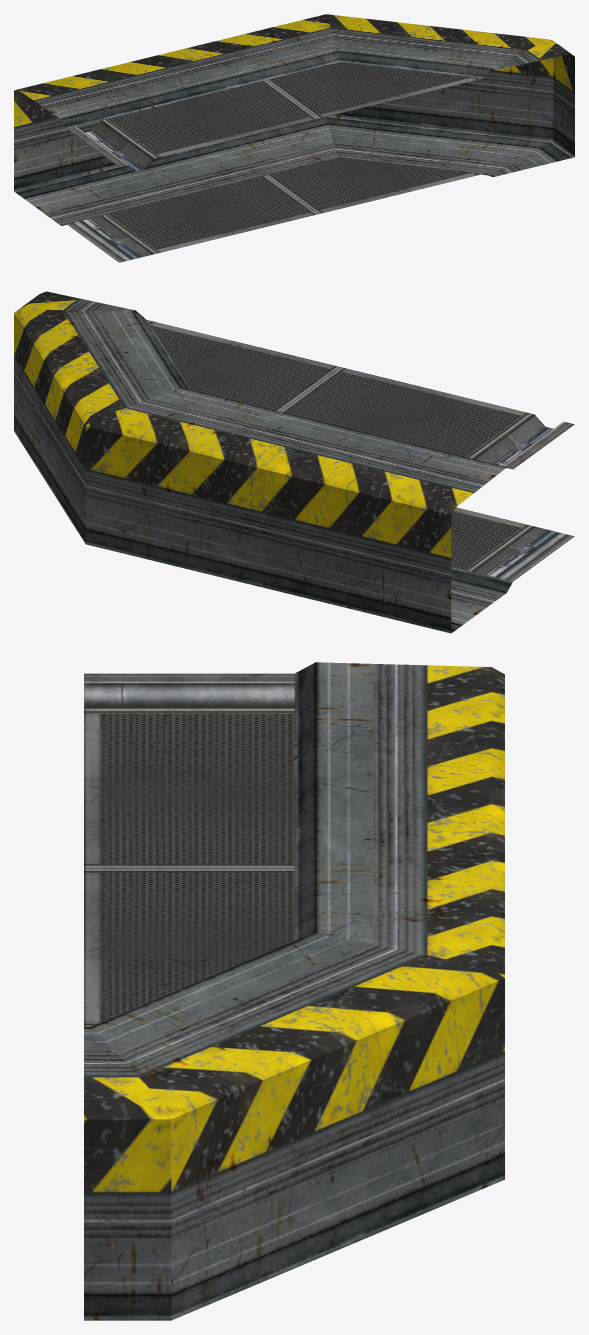
File: FLO_PLatformSolidEdgeLeft_1x2'5.FBX
3 views of the same model, one above another, from view 1: azimuth 30°, elevation 25°; view 2: azimuth 150°, elevation 25°; view 3: azimuth 270°, elevation 25° (orthographic). The views are drawn at different scales.
Visible parts, largest first — view 1: FLO_PLatformSolidEdgeLeft_1x2'5; view 2: FLO_PLatformSolidEdgeLeft_1x2'5; view 3: FLO_PLatformSolidEdgeLeft_1x2'5.
Boxes of the visible parts, x1,y1,x2,y2 form: FLO_PLatformSolidEdgeLeft_1x2'5: (14, 14, 574, 262); FLO_PLatformSolidEdgeLeft_1x2'5: (14, 291, 574, 633); FLO_PLatformSolidEdgeLeft_1x2'5: (84, 662, 504, 1320).
Size of the model in its own units: 250 by 55.97 by 100.
1 material, 1 textured.
